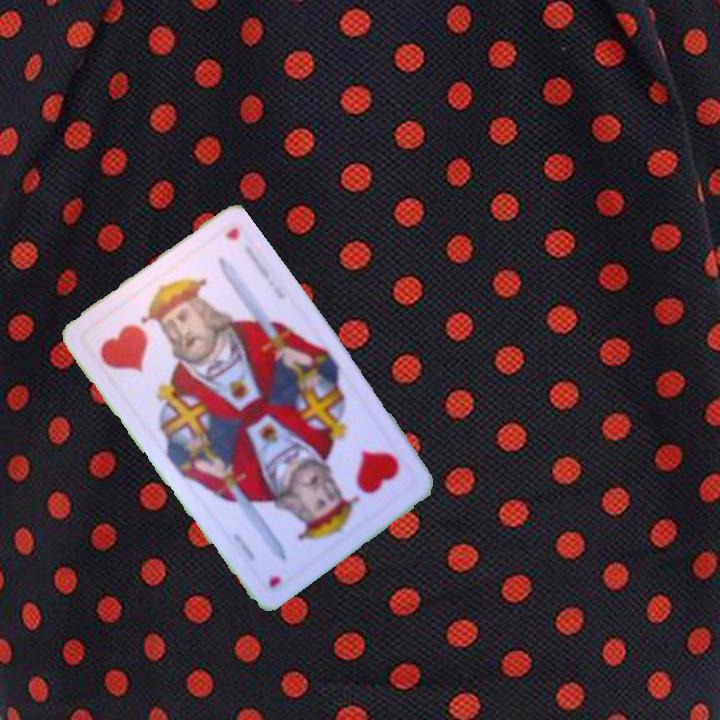h_k.png: (293, 412, 423, 538), (78, 278, 207, 404)
